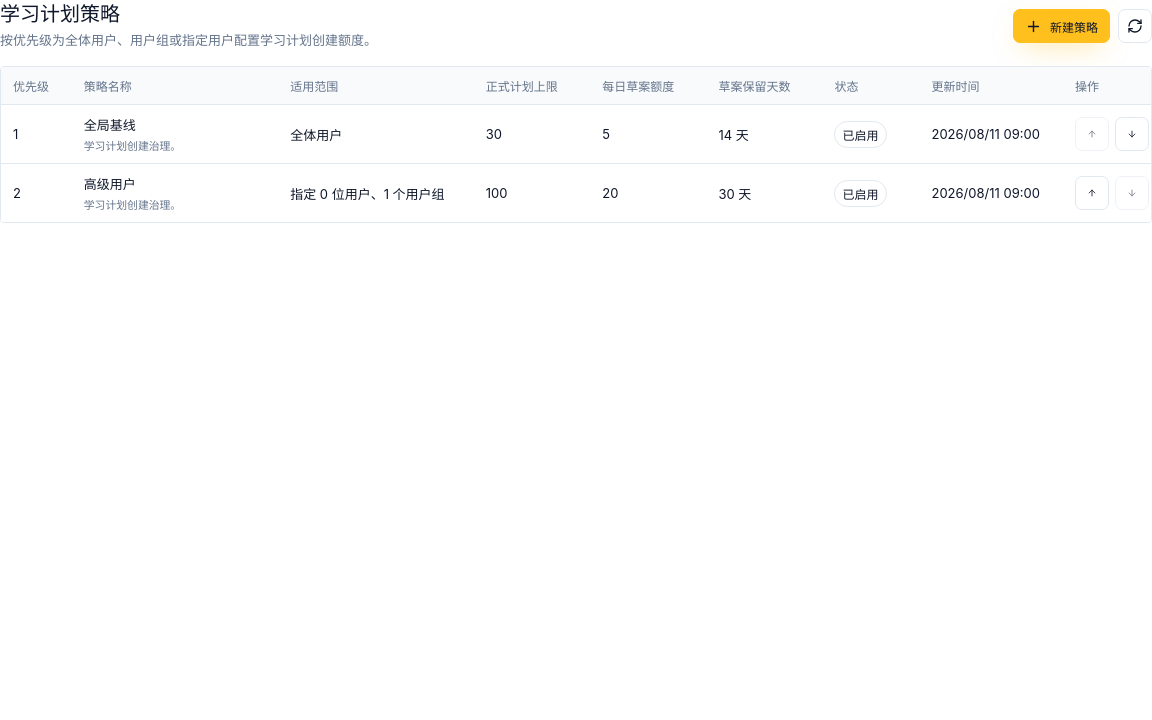
Test: LearningPlanPolicyPage › rejects values outside the backend policy contract
Click the button "新建策略": {"x": 1062, "y": 26} [1013,9,1110,43]
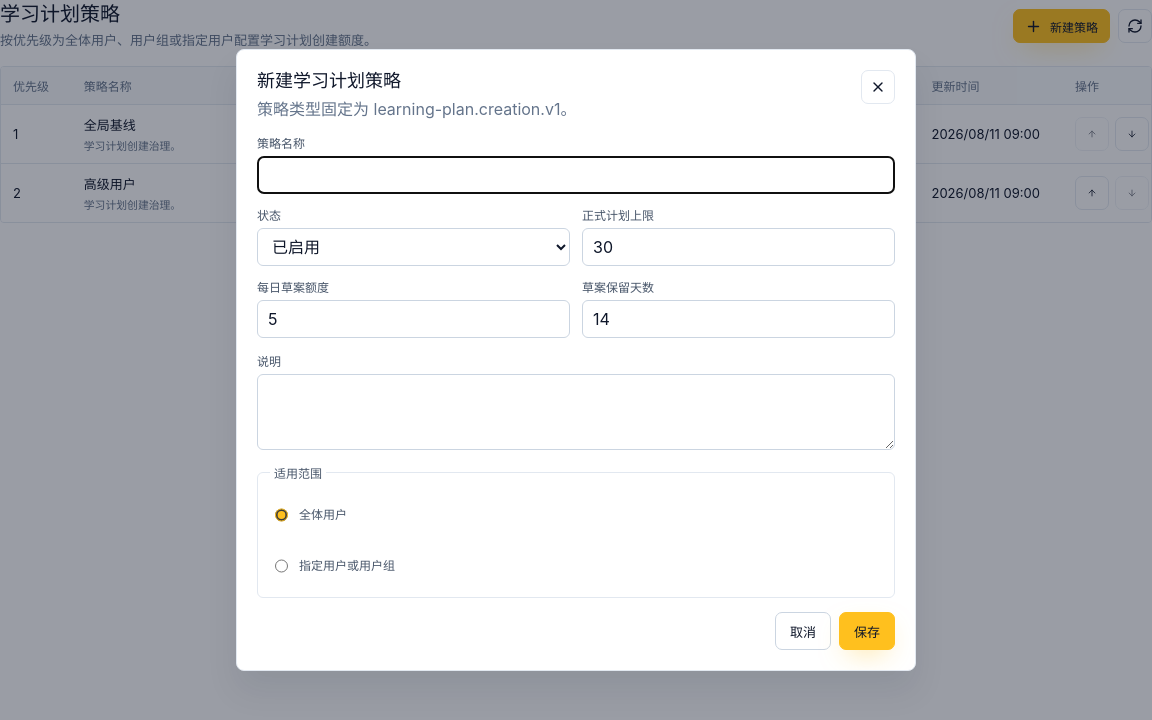
In the field labelled "策略名称": {"x": 576, "y": 175} [257,156,895,194], type "无效策略"
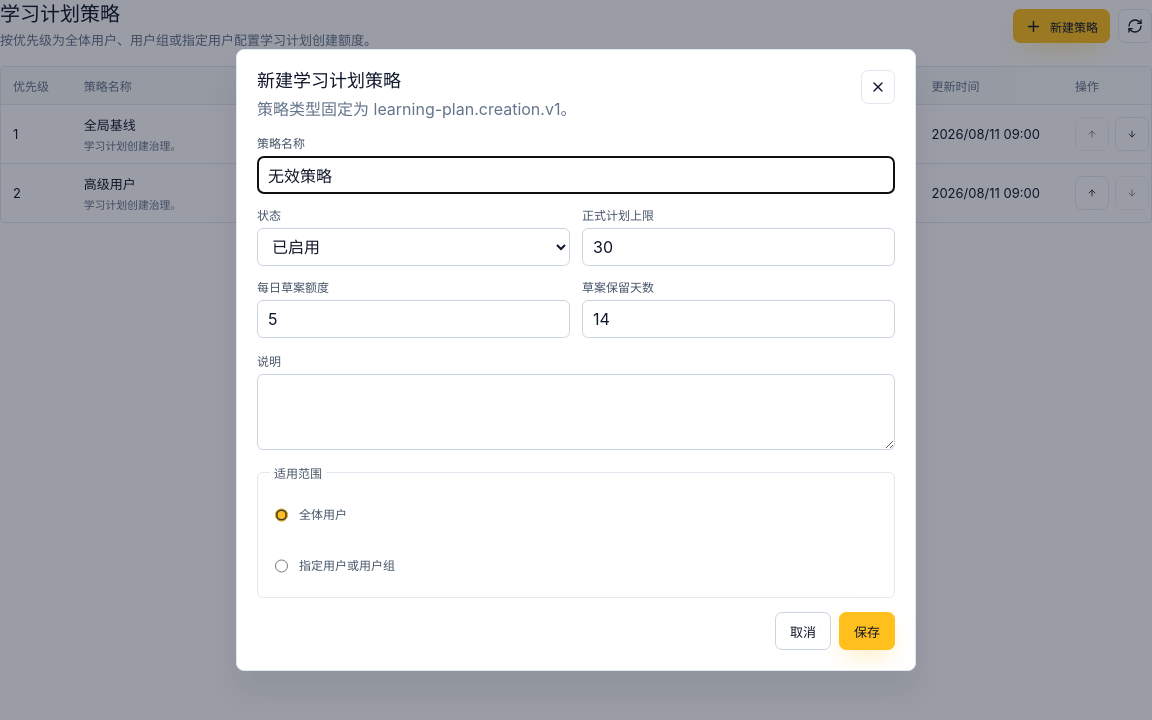
Replace the text in the number field labelled "草案保留天数" with "0": {"x": 738, "y": 319} [582,300,895,338]
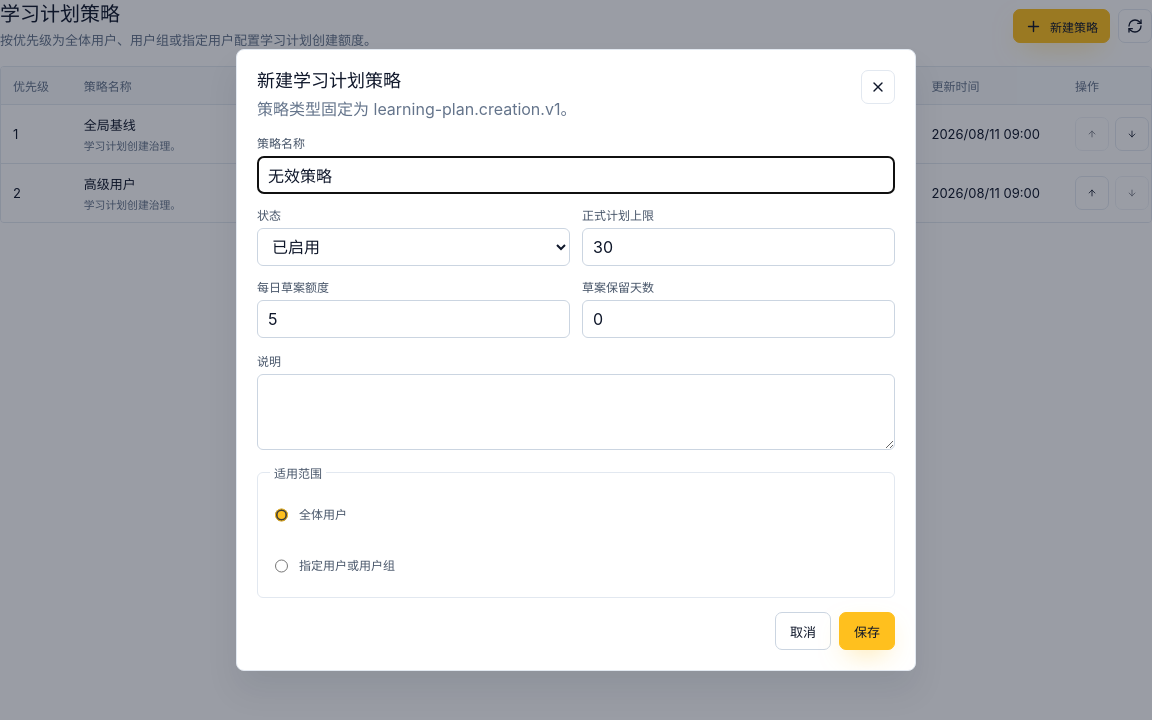
Click the button "保存": {"x": 867, "y": 631} [839,612,895,650]
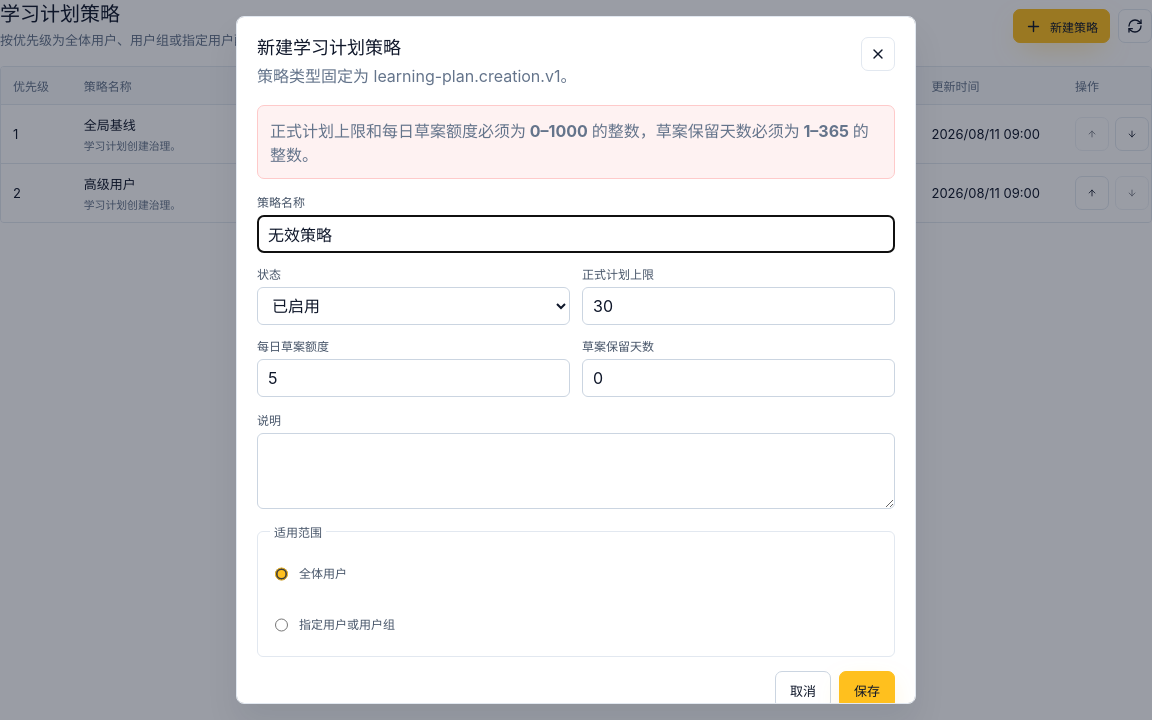
Result: the message shows "草案保留天数必须为 1–365 的整数" at [270,121,869,165]
